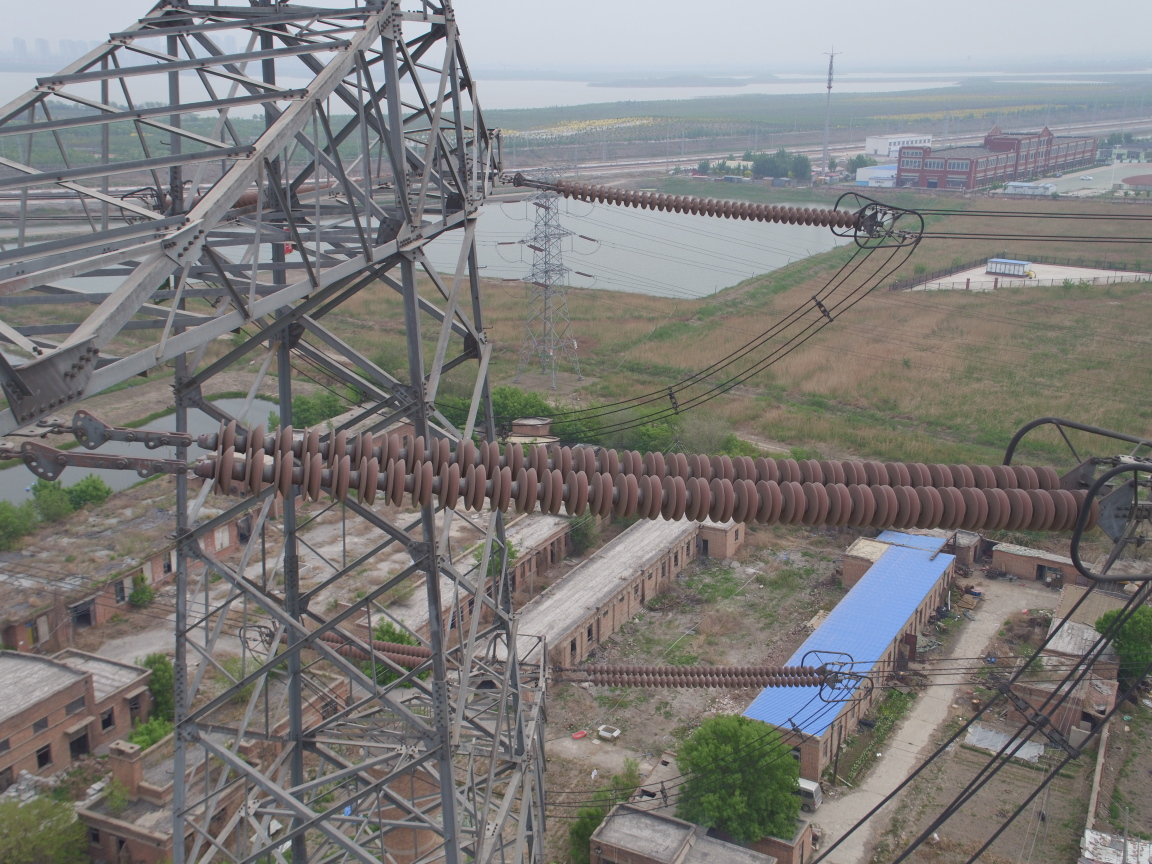insulator: (147, 413, 1117, 534), (536, 175, 862, 233), (571, 662, 829, 692)
